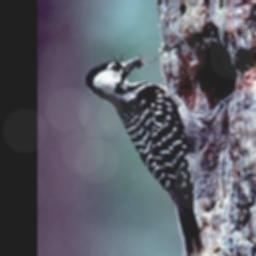Woodpecker: (82, 52, 218, 254)
